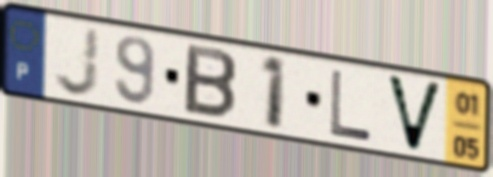1: (258, 53, 288, 135)
9: (111, 34, 158, 107)
B: (180, 40, 240, 123)
J: (51, 24, 102, 99)
L: (328, 66, 375, 144)
V: (382, 71, 446, 156)
